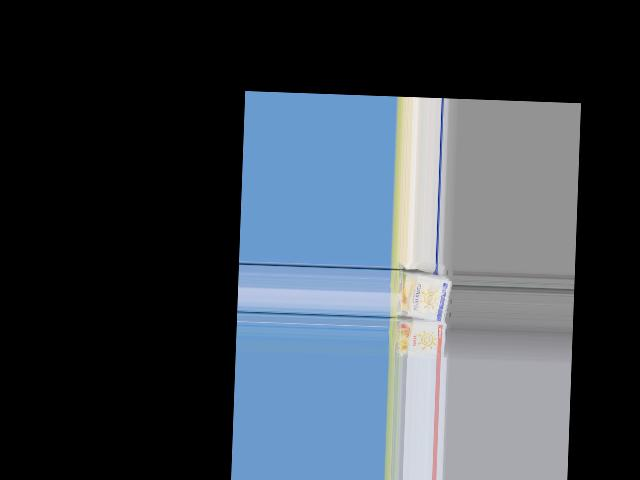cheese: (387, 319, 449, 360)
